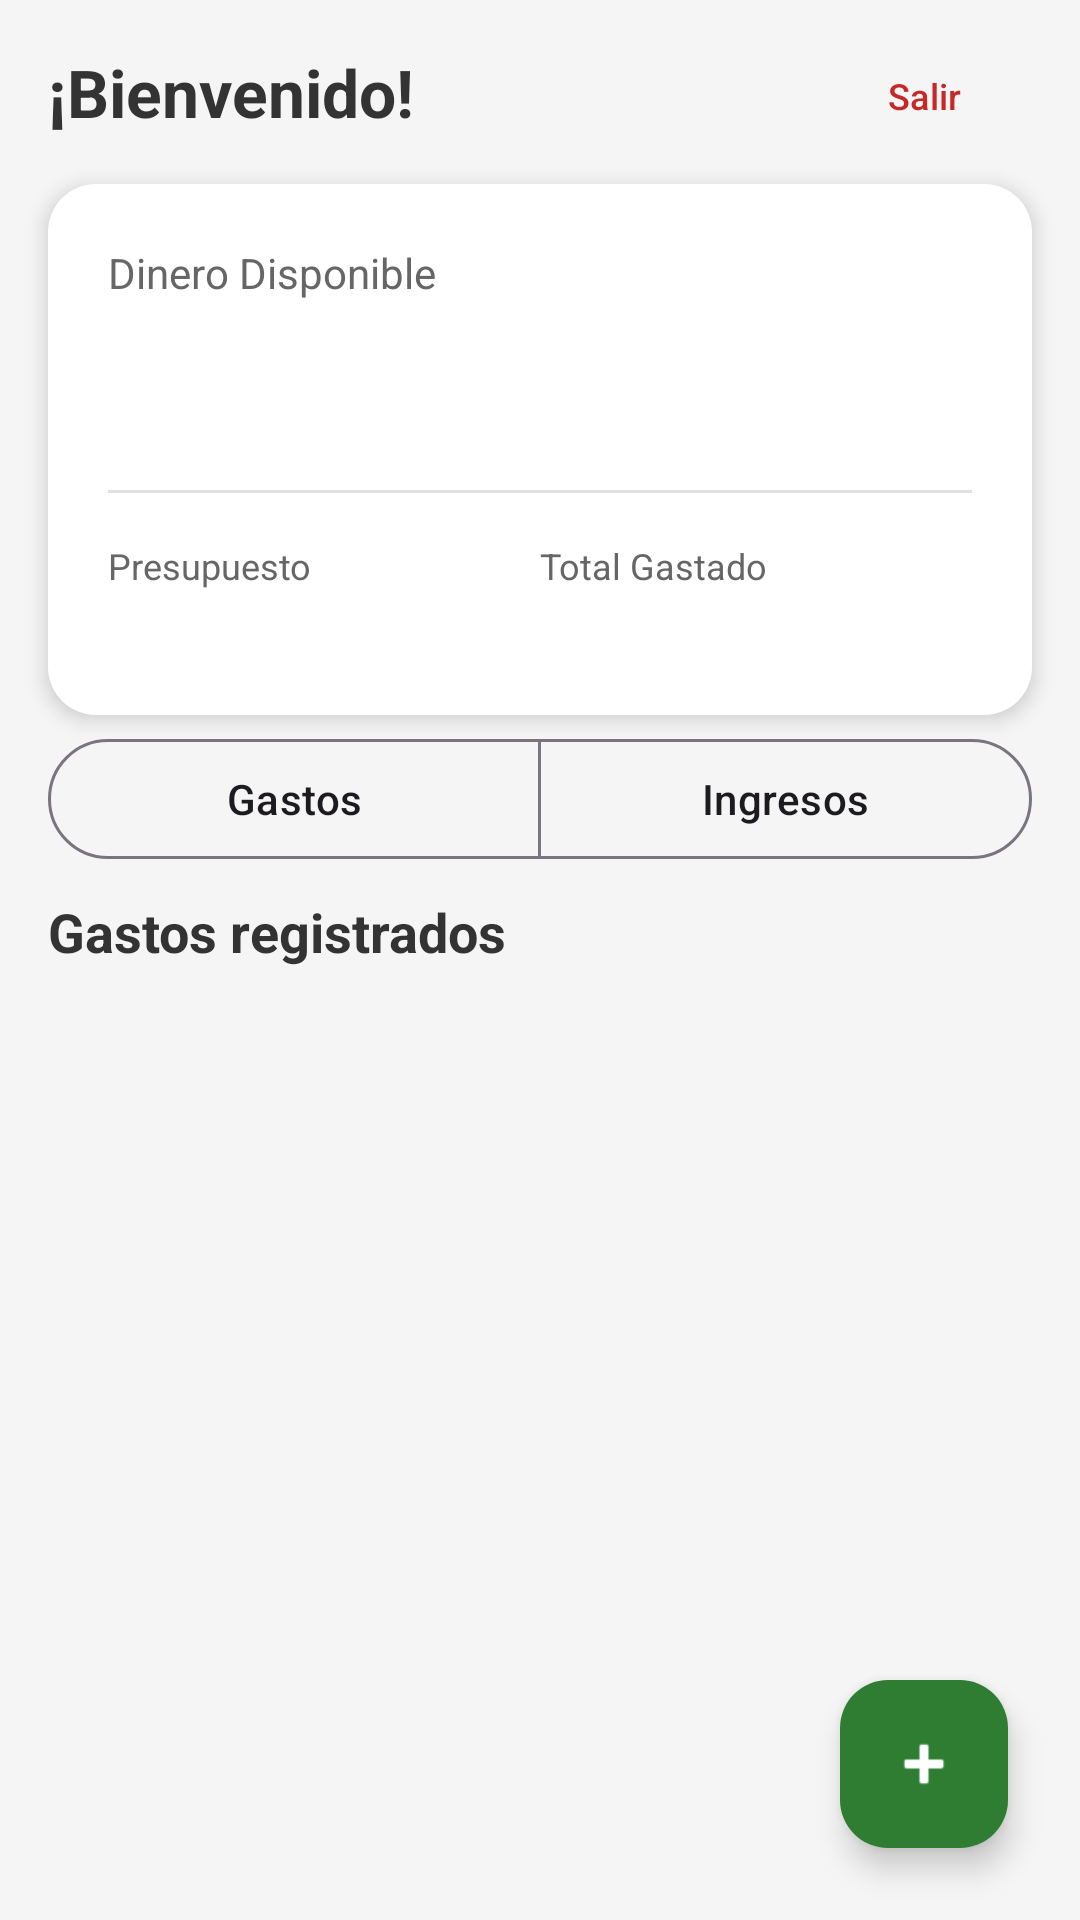

Named icons in this screenshot (1080 × 1920) and their bounding boxes, (x1, y1, x2, y2):
Agregar nuevo gasto: (840, 1680, 1008, 1848)
